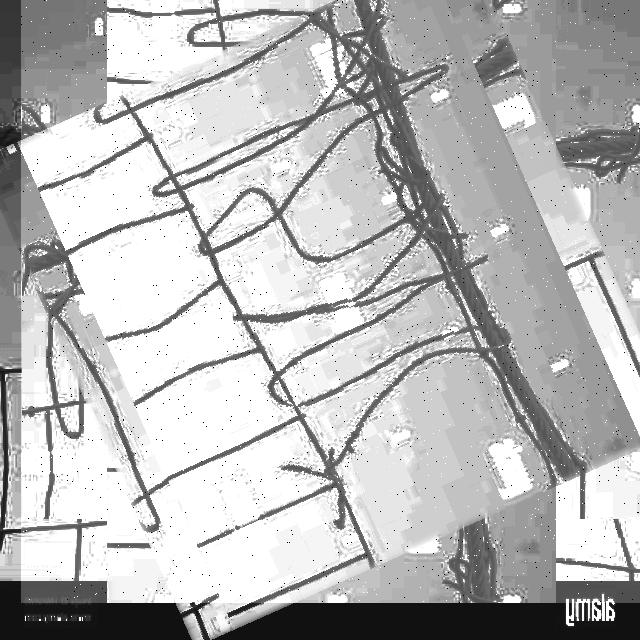anomaly-fence: (21, 0, 640, 603)
